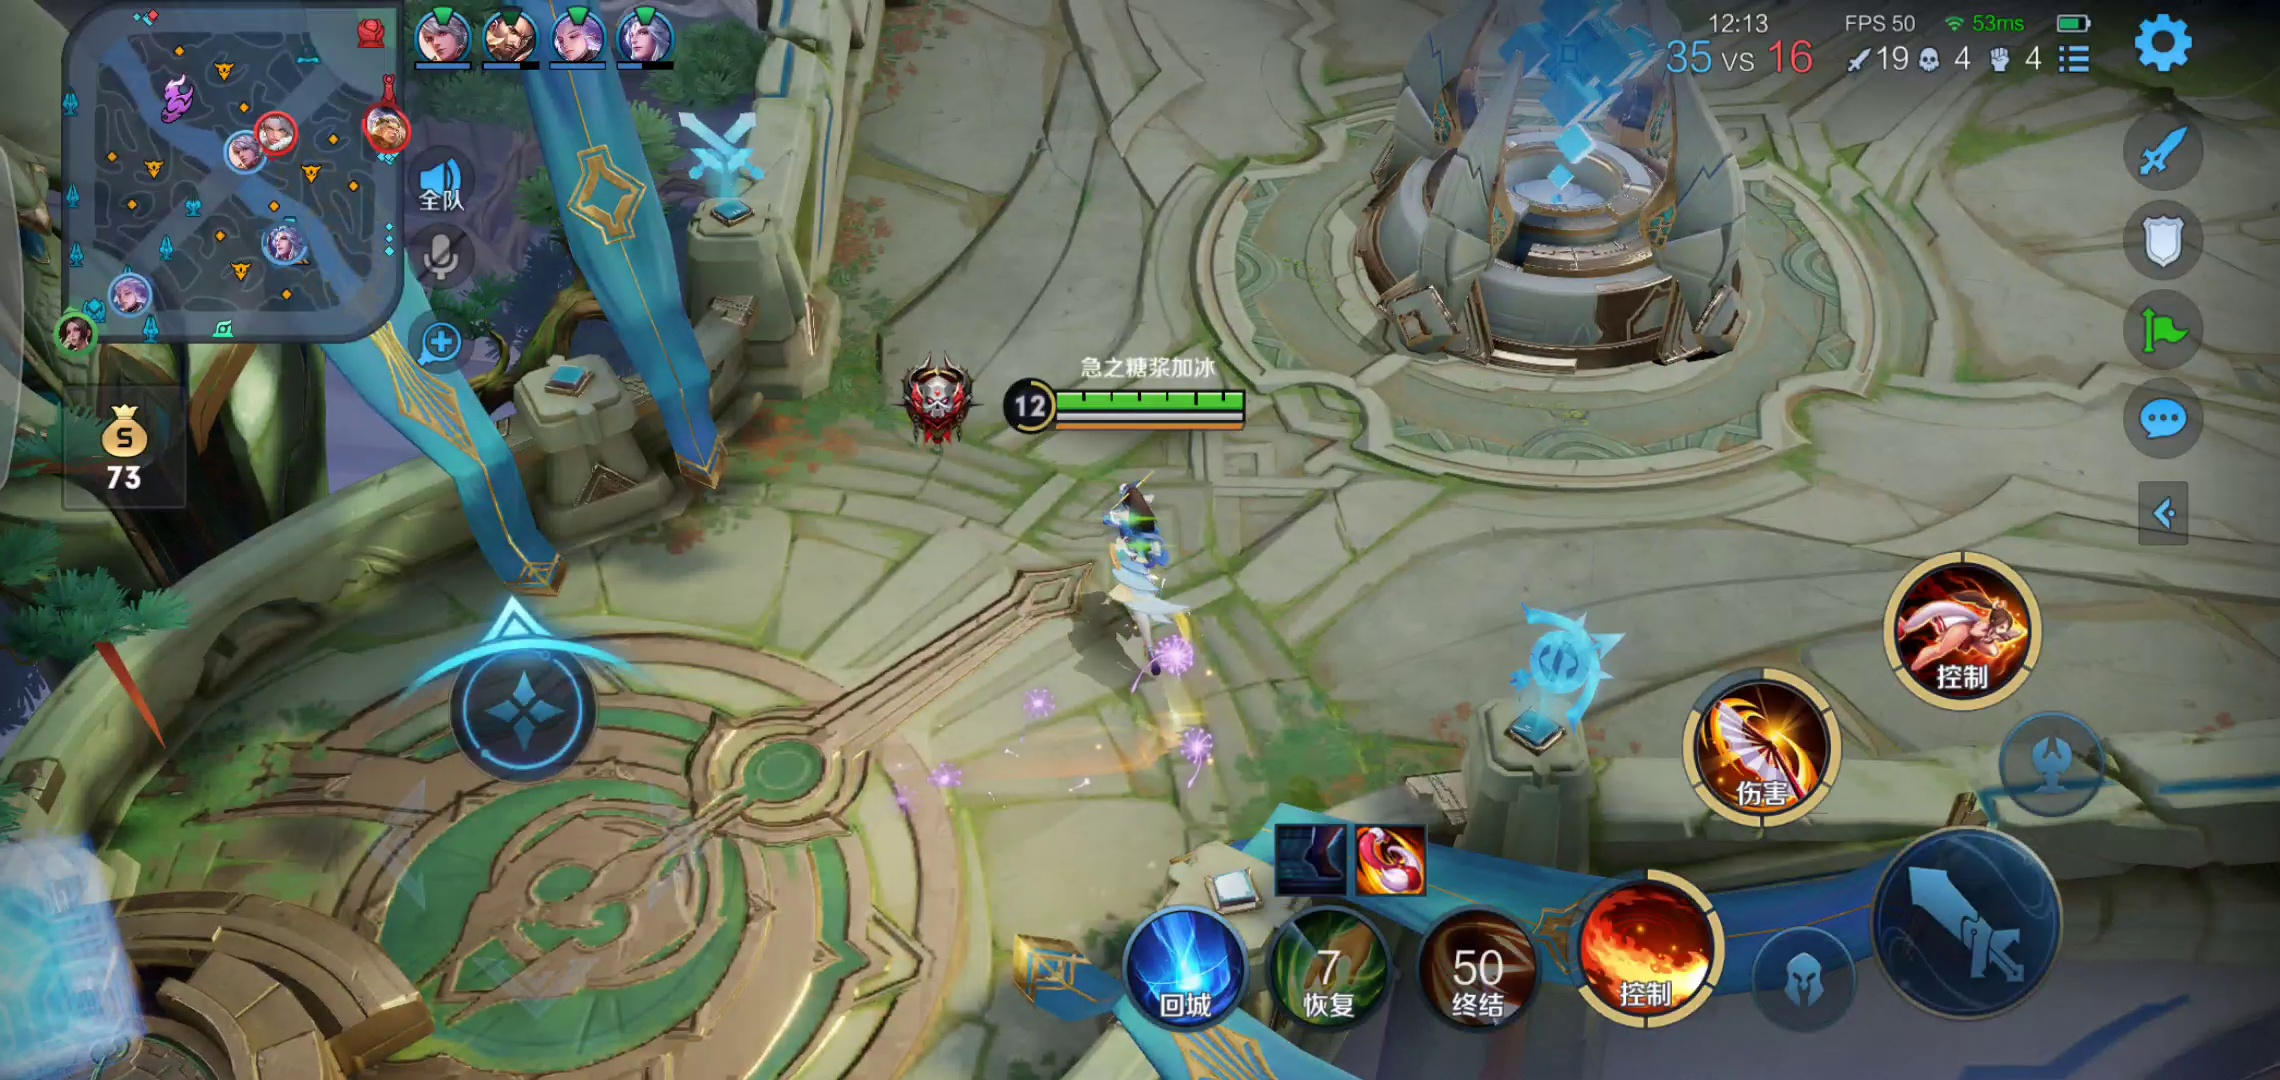crystal: (1339, 4, 1783, 371)
hero: (1067, 472, 1229, 698)
